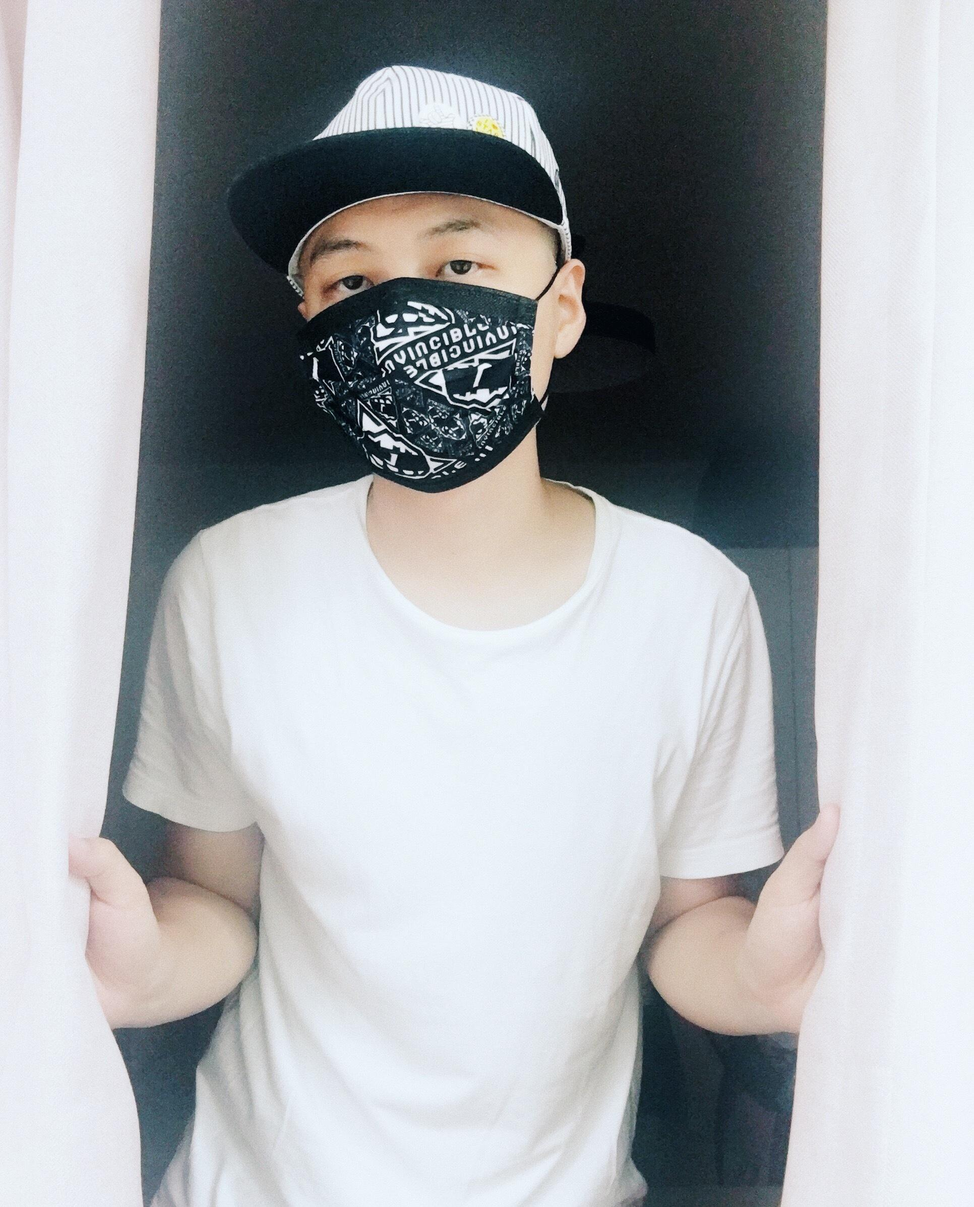OK: (301, 227, 566, 492)
